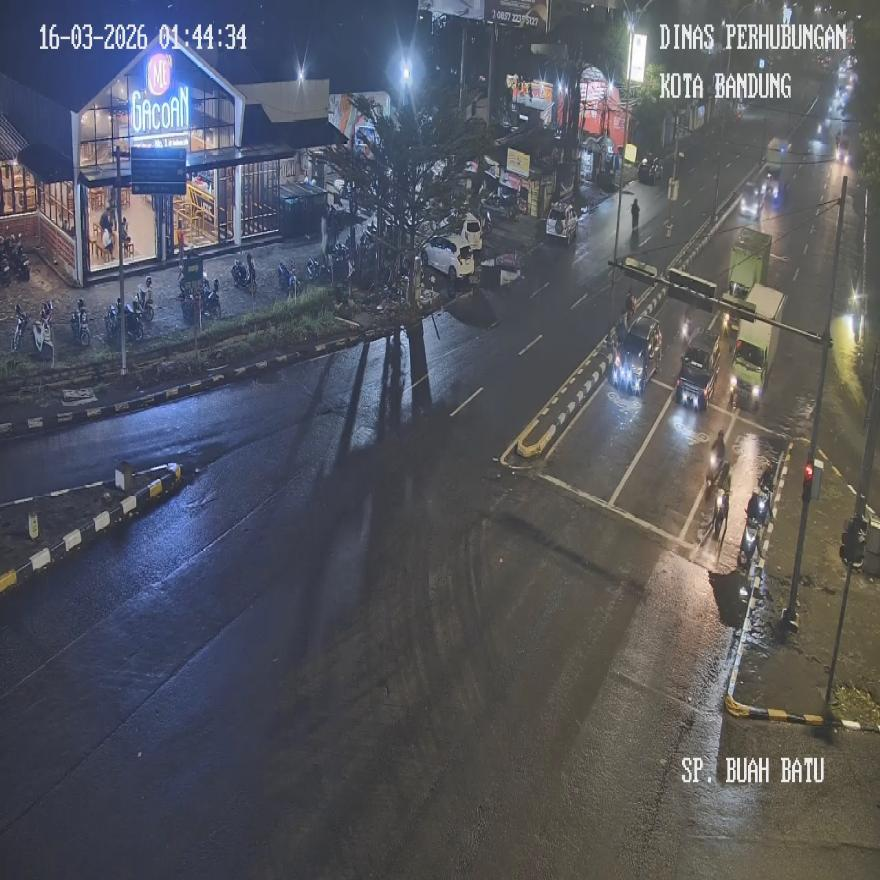Truk: (32, 301, 54, 358), (738, 514, 760, 570), (706, 429, 725, 488), (231, 253, 256, 297), (123, 292, 144, 342), (70, 298, 90, 347), (713, 485, 729, 543), (203, 273, 222, 320), (276, 260, 297, 300), (307, 251, 331, 284), (140, 276, 155, 325), (13, 304, 28, 352), (104, 296, 120, 341), (232, 256, 248, 290)
